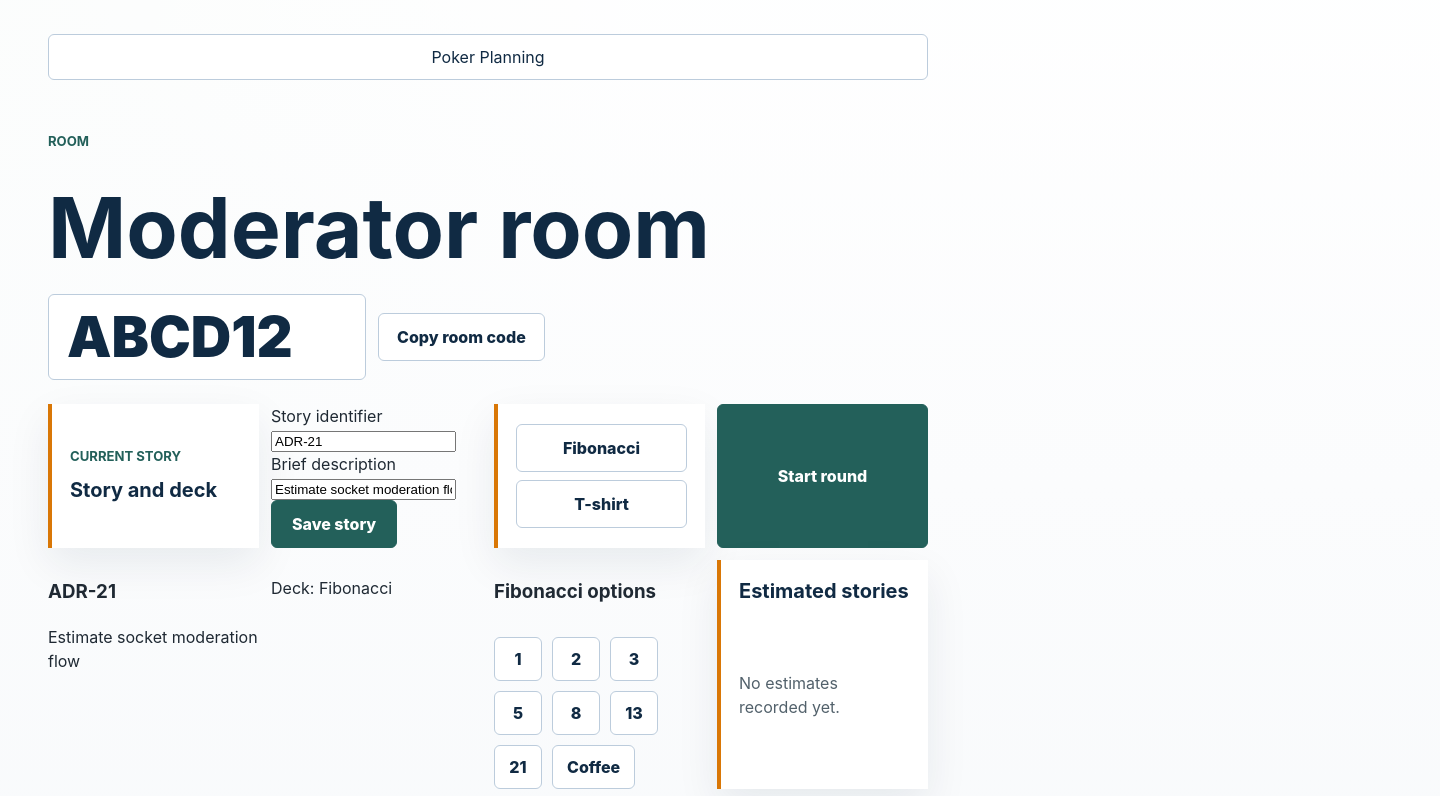
Test: ModeratorSessionView › shows start-round pending state without optimistic active-round rendering
Click the button "Start round" at [822, 476], box [717, 404, 928, 548]
(page scrolled)
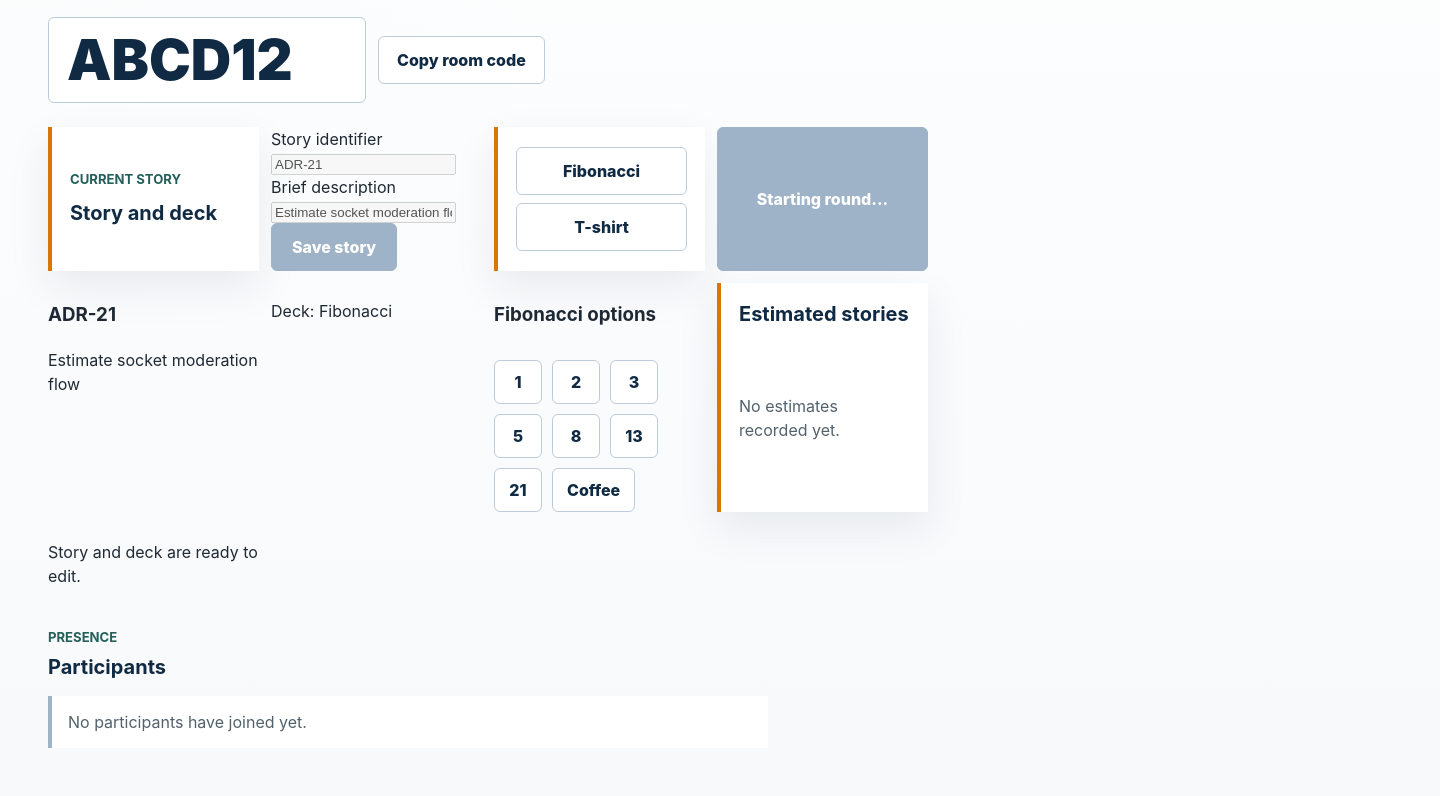
expect the text "Story and deck are ready to edit." is shown: met, box [48, 540, 259, 588]
expect the button "Starting round..." is disabled: met, box [717, 127, 928, 271]
